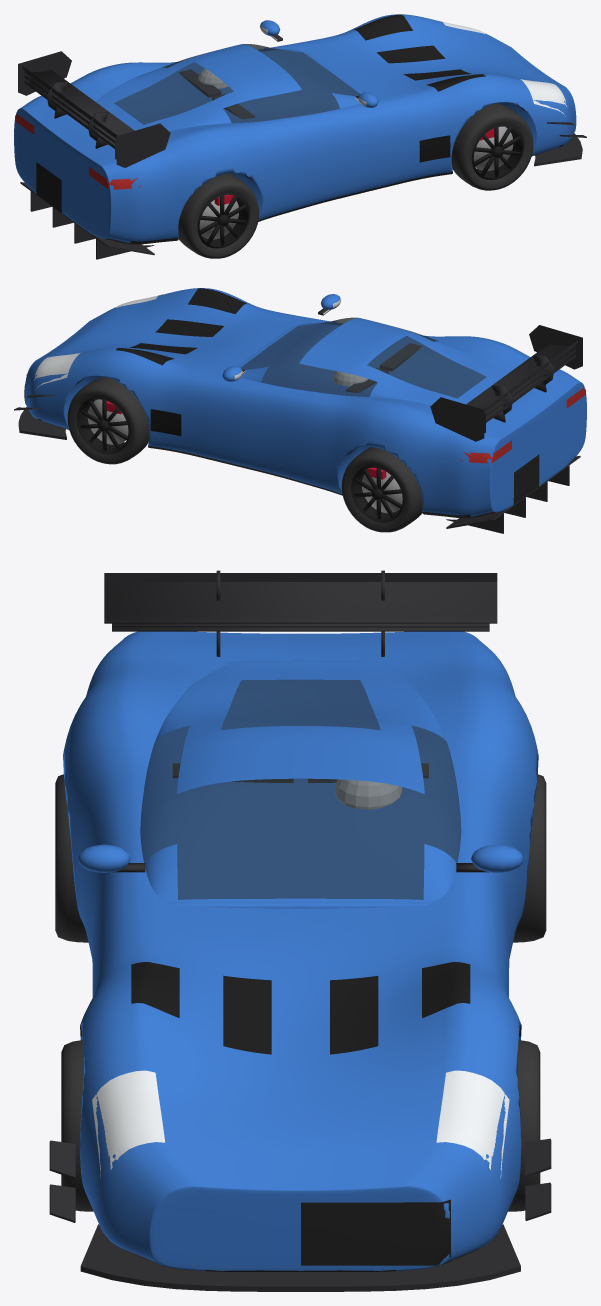
The model's file is v8_front_gt.glb.
The picture shows the model from 3 angles, top to bottom: view 1: azimuth 30°, elevation 25°; view 2: azimuth 150°, elevation 25°; view 3: azimuth 270°, elevation 25°; orthographic projection. The views are drawn at different scales.
Visible parts, largest first — view 1: body, cabin, bumper_rear, wheel_fr_spin, wheel_rr_spin, wing_rear_up3, bumper_front, diffuser, interior, wing_rear, wing_rear_up2, splitter_up (+1 smaller); view 2: body, cabin, bumper_rear, wheel_fl_spin, wheel_rl_spin, wing_rear_up3, bumper_front, diffuser, interior, wing_rear_up2, wing_rear, splitter_up (+1 smaller); view 3: body, bumper_front, cabin, wing_rear_up3, bumper_rear, splitter_up, splitter, canards, wheel_rl_spin, wheel_rr_spin, wheel_fr_spin, wheel_fl_spin (+5 smaller).
Part boxes in pixels (<box>): body: <box>70,14,540,243</box>; cabin: <box>95,44,362,131</box>; bumper_rear: <box>14,95,155,244</box>; wheel_fr_spin: <box>451,103,533,190</box>; wheel_rr_spin: <box>178,173,259,258</box>; wing_rear_up3: <box>18,51,170,167</box>; bumper_front: <box>445,22,576,154</box>; diffuser: <box>20,182,154,259</box>; interior: <box>179,68,255,119</box>; wing_rear: <box>20,70,116,159</box>; wing_rear_up2: <box>20,63,116,155</box>; splitter_up: <box>534,133,582,166</box>; body: <box>60,288,530,517</box>; cabin: <box>238,317,505,404</box>; bumper_rear: <box>445,369,586,518</box>; wheel_fl_spin: <box>67,377,149,464</box>; wheel_rl_spin: <box>341,447,422,532</box>; wing_rear_up3: <box>430,325,582,441</box>; bumper_front: <box>24,296,154,427</box>; diffuser: <box>446,456,580,533</box>; interior: <box>333,343,421,392</box>; wing_rear_up2: <box>484,337,580,430</box>; wing_rear: <box>484,344,580,433</box>; splitter_up: <box>18,407,66,439</box>; body: <box>63,656,538,1199</box>; bumper_front: <box>83,1080,518,1271</box>; cabin: <box>140,660,461,908</box>; wing_rear_up3: <box>104,570,497,656</box>; bumper_rear: <box>86,631,514,694</box>; splitter_up: <box>80,1224,520,1291</box>; splitter: <box>88,1232,513,1281</box>; canards: <box>49,1138,551,1222</box>; wheel_rl_spin: <box>513,774,546,942</box>; wheel_rr_spin: <box>55,774,88,942</box>; wheel_fr_spin: <box>61,1040,93,1211</box>; wheel_fl_spin: <box>508,1040,540,1211</box>.
Size of the model in its own units: 4.63 by 1.29 by 2.07.
